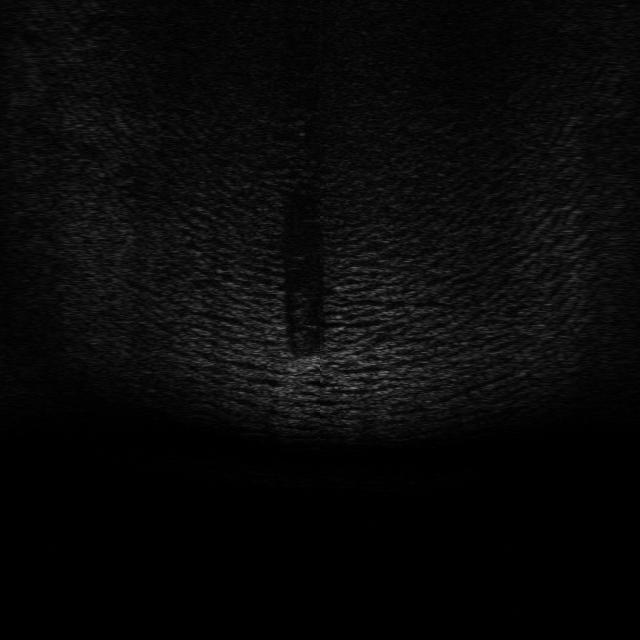cube: (282, 350, 328, 376)
